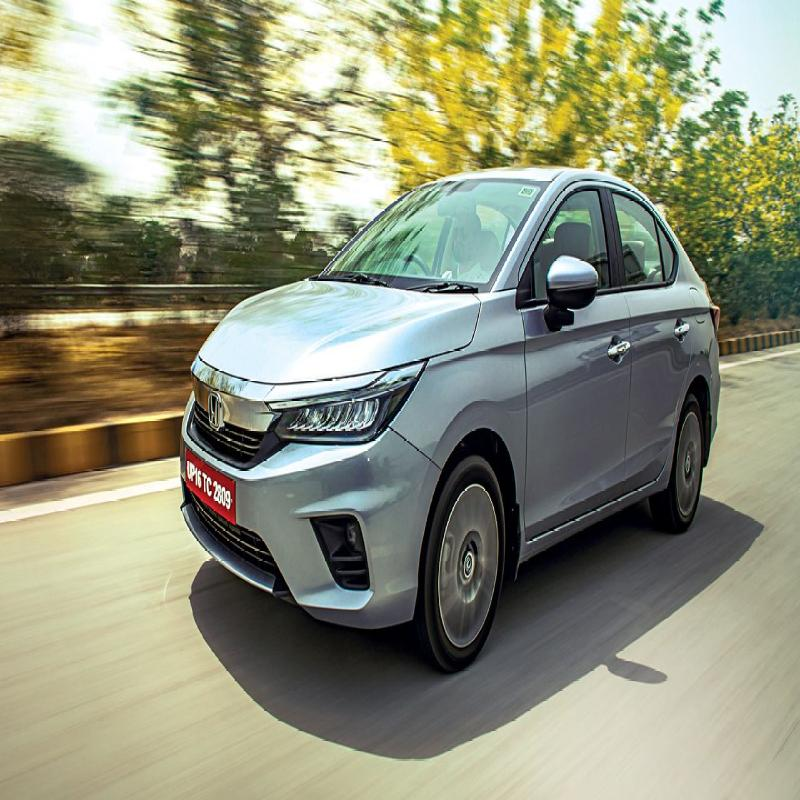car: (181, 156, 730, 645)
